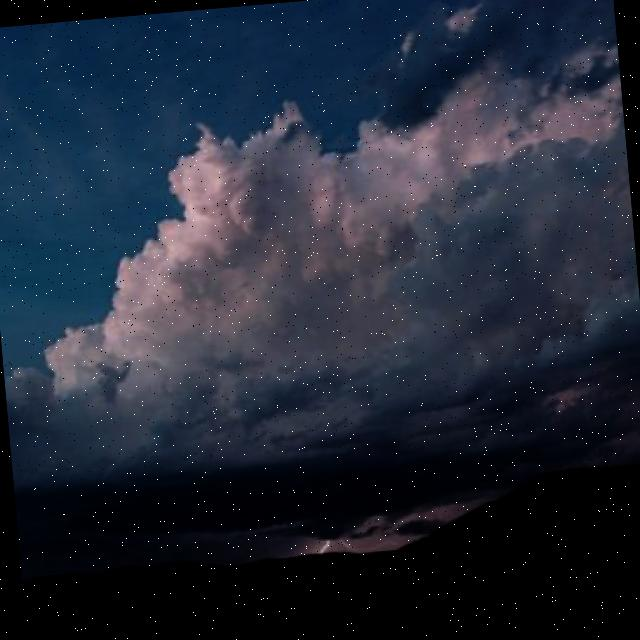Cb: (1, 16, 640, 445)
